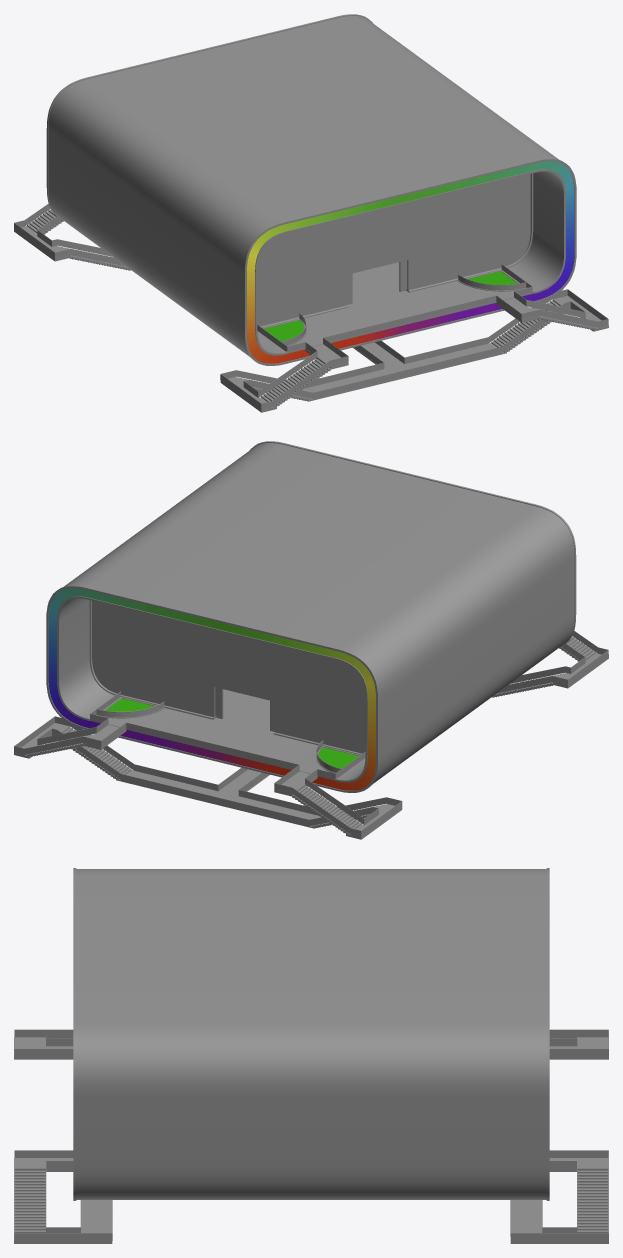
File: LivingStation.FBX
The picture shows the model from 3 angles, top to bottom: view 1: azimuth 30°, elevation 25°; view 2: azimuth 150°, elevation 25°; view 3: azimuth 270°, elevation 25°; orthographic projection. The views are drawn at different scales.
Parts seen in each view (by area): view 1: Structure, Glass2, Railing, GlowFlow1, OuterStructureTrimLeft, OuterStructureTrimRight, Grass, GlasstrimRight; view 2: Structure, Glass, Railing, GlowFlow1, OuterStructureTrimRight, OuterStructureTrimLeft, Grass, GlasstrimLeft; view 3: Structure, Railing, OuterStructureTrimRight, OuterStructureTrimLeft.
Part boxes in pixels (<box>): Structure: <box>14,16,608,412</box>; Glass2: <box>257,174,530,326</box>; Railing: <box>14,203,608,409</box>; GlowFlow1: <box>247,161,574,363</box>; OuterStructureTrimLeft: <box>243,158,576,365</box>; OuterStructureTrimRight: <box>46,14,372,219</box>; Grass: <box>264,271,517,341</box>; GlasstrimRight: <box>260,173,533,327</box>; Structure: <box>14,443,608,839</box>; Glass: <box>92,601,365,753</box>; Railing: <box>14,631,608,837</box>; GlowFlow1: <box>48,588,375,790</box>; OuterStructureTrimRight: <box>46,585,379,792</box>; OuterStructureTrimLeft: <box>250,441,576,646</box>; Grass: <box>105,698,358,768</box>; GlasstrimLeft: <box>89,600,361,754</box>; Structure: <box>14,869,608,1243</box>; Railing: <box>14,1029,608,1240</box>; OuterStructureTrimRight: <box>546,868,549,1200</box>; OuterStructureTrimLeft: <box>73,868,76,1200</box>.
Size of the model in its own units: 54.08 by 27.94 by 66.74.
Materials: 5 (1 with a texture image).
